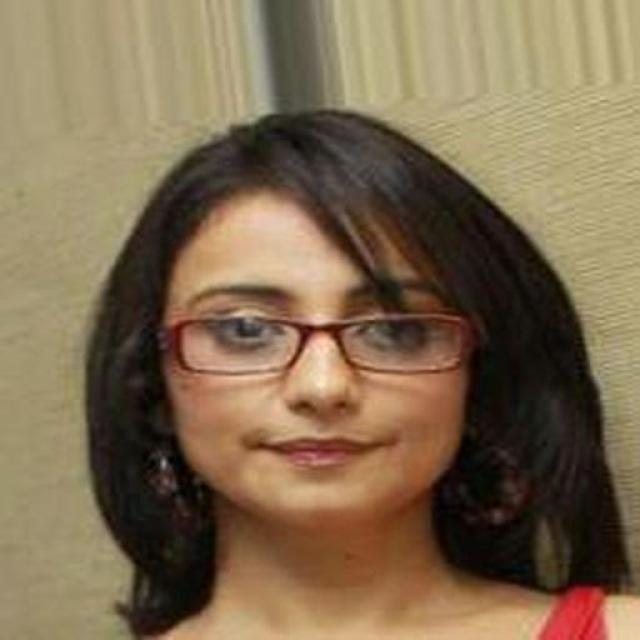bareface: (149, 161, 473, 518)
